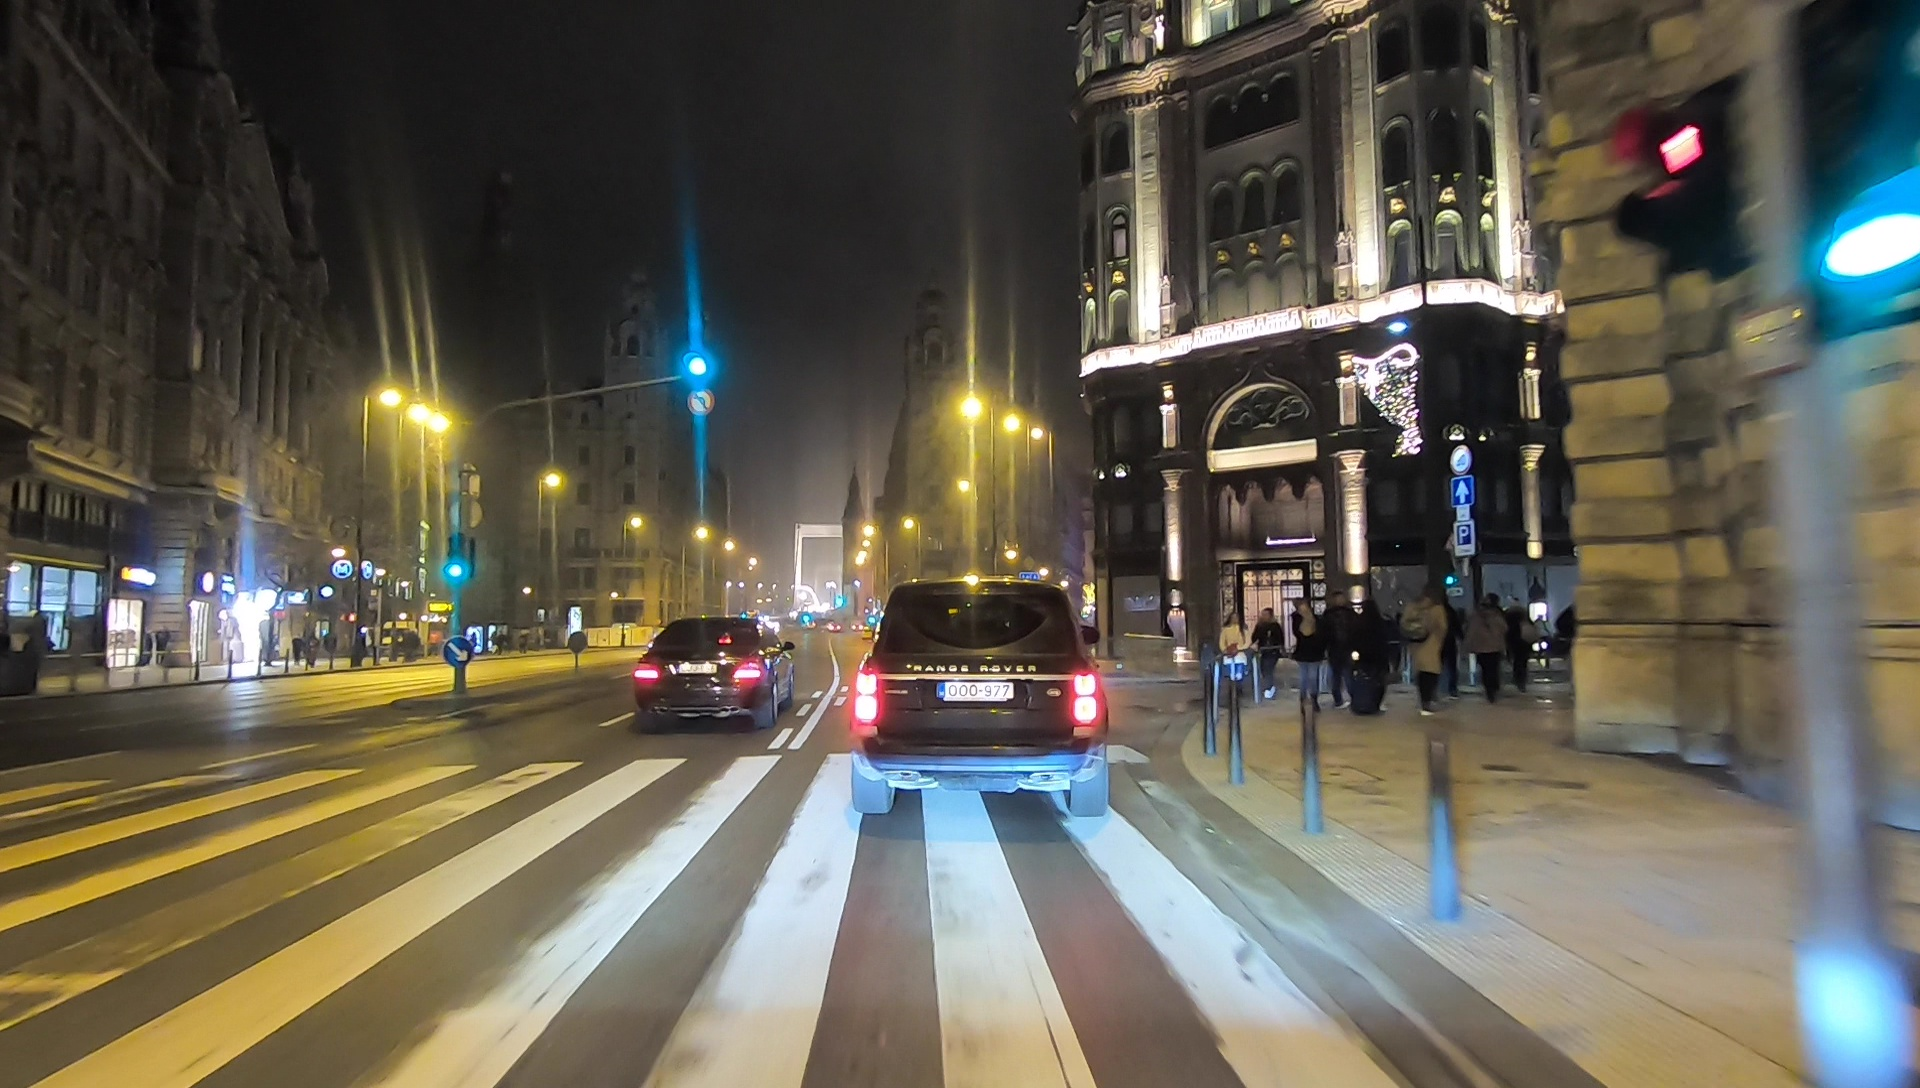person: (1402, 580, 1441, 716), (1468, 589, 1505, 710), (1358, 596, 1391, 721), (1290, 596, 1323, 713), (1329, 591, 1357, 712), (1503, 589, 1535, 693), (1255, 603, 1283, 701), (1221, 615, 1249, 694)
